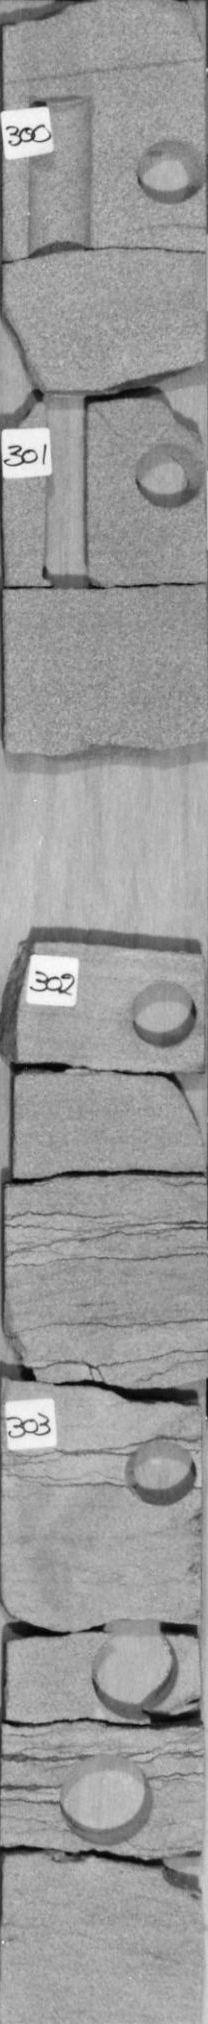hplug: (123, 971, 200, 1055), (118, 1434, 202, 1512), (127, 128, 208, 204), (127, 436, 204, 511)
scal: (54, 1753, 154, 1848), (90, 1628, 181, 1717)
vplug: (23, 90, 98, 261), (37, 383, 98, 592)
